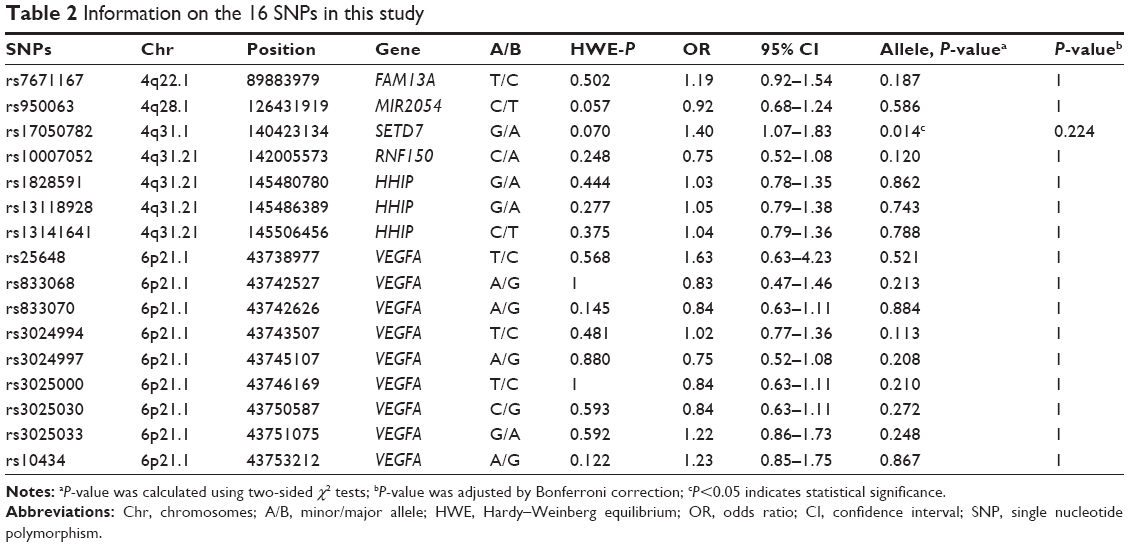table: (1, 27, 1129, 482)
